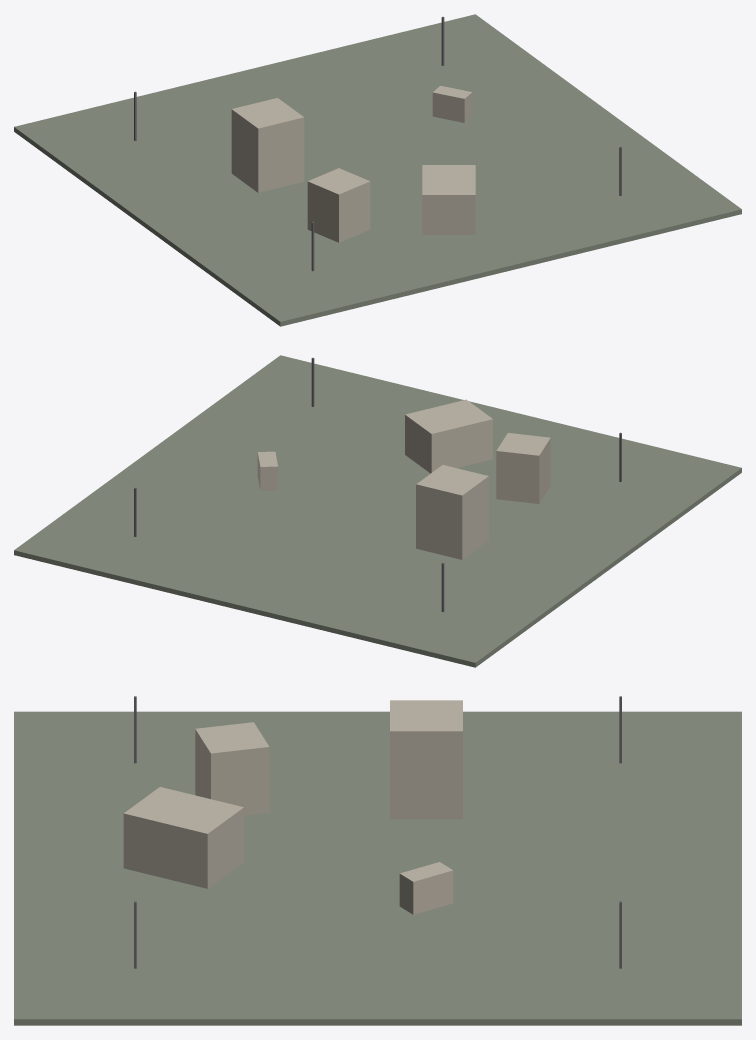
The model's file is level.glb.
3 renders of one model, top to bottom at view 1: azimuth 30°, elevation 25°; view 2: azimuth 150°, elevation 25°; view 3: azimuth 270°, elevation 25°, orthographic. The views are drawn at different scales.
Parts seen in each view (by area): view 1: Ground, Building0, Building2, Building3, Building1; view 2: Ground, Building0, Building3, Building2, Building1; view 3: Ground, Building3, Building0, Building2, Building1.
Part boxes in pixels (box(x1,y1,x2,y2)): Ground: box(14, 14, 741, 326); Building0: box(231, 98, 304, 192); Building2: box(307, 168, 370, 242); Building3: box(422, 165, 475, 234); Building1: box(432, 85, 472, 122); Ground: box(14, 355, 741, 667); Building0: box(416, 465, 488, 559); Building3: box(405, 399, 492, 473); Building2: box(496, 433, 550, 503); Building1: box(257, 451, 277, 491); Ground: box(14, 711, 741, 1025); Building3: box(123, 787, 243, 888); Building0: box(390, 700, 462, 819); Building2: box(195, 722, 269, 815); Building1: box(399, 862, 453, 914).
Bounding box in the file's own units: 30 × 4.3 × 30.
